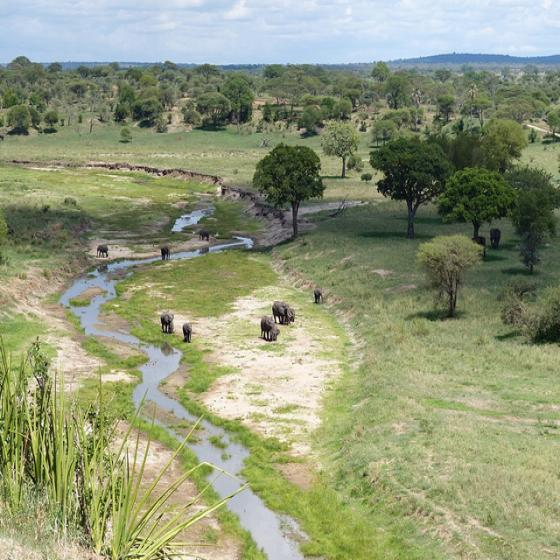elephant: (272, 301, 292, 325), (261, 316, 276, 341), (471, 235, 486, 258), (160, 311, 174, 334), (489, 228, 501, 249), (183, 323, 192, 343), (313, 288, 324, 304), (284, 307, 295, 322), (160, 244, 170, 260), (97, 245, 109, 258), (199, 229, 209, 241)
